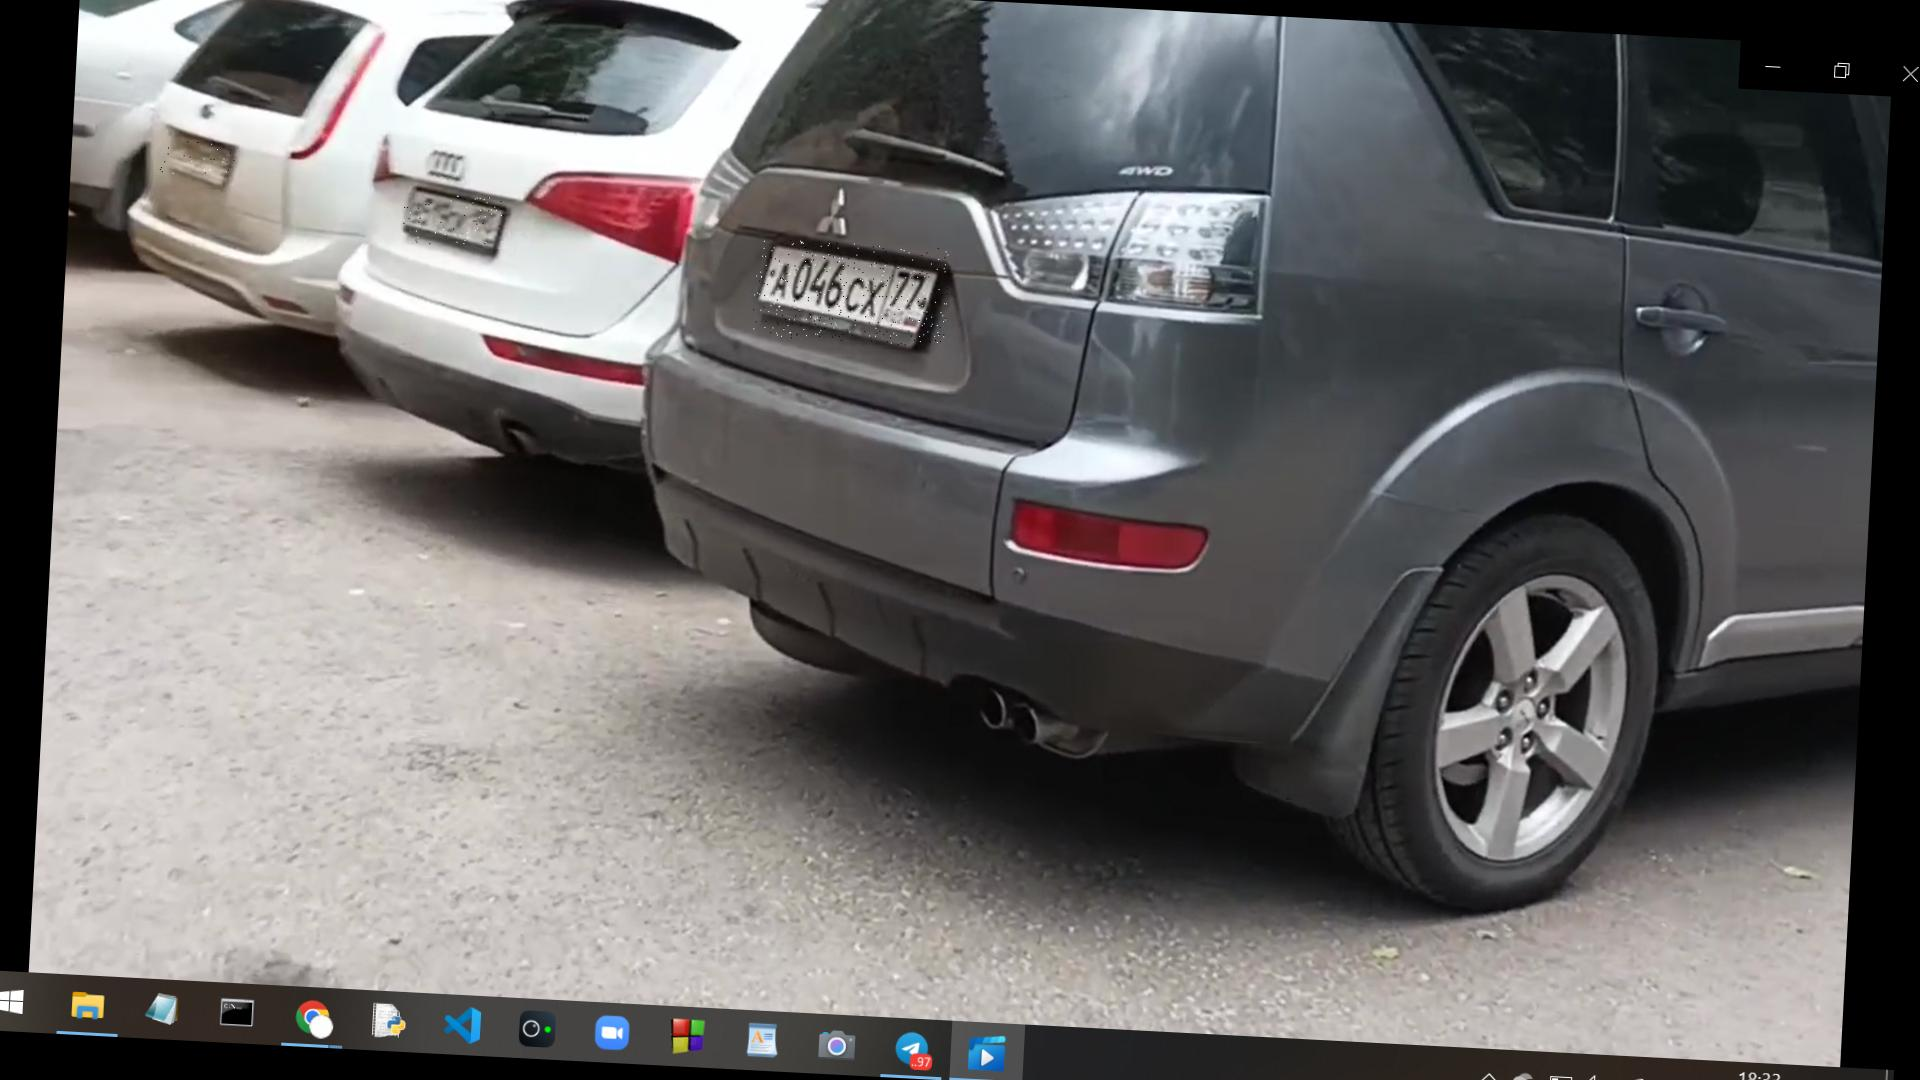plate: (753, 239, 951, 348), (404, 194, 511, 250), (161, 141, 238, 178)
